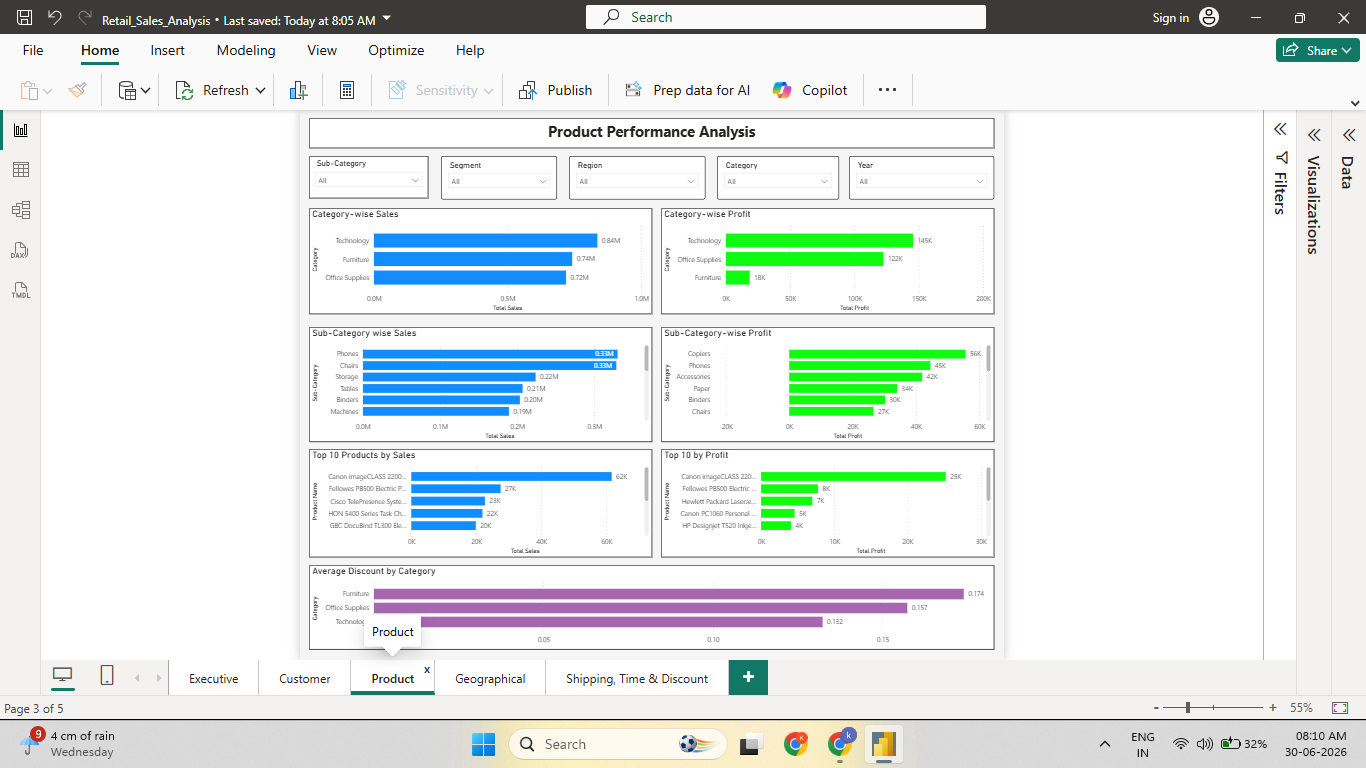

What the dashboard file says about the page in this screenshot:
{"tool":"powerbi","page":{"name":"Product ","canvas":[1280,1000],"ordinal":2},"visuals":[{"type":"textbox","box":[16.3,14.2,1245.9,54.9],"z":0},{"type":"clusteredBarChart","title":"Category-wise Sales","fields":{"Category":["orders.Category"],"Y":["Measures (2).Total Sales"]},"box":[16.3,178.9,624,193.1],"z":1000},{"type":"clusteredBarChart","title":"Category-wise Profit","fields":{"Category":["orders.Category"],"Y":["Measures (2).Total Profit"]},"box":[656.5,178.9,605.7,193.1],"z":2000},{"type":"clusteredBarChart","title":"Sub-Category wise Sales","fields":{"Category":["orders.Sub-Category"],"Y":["Measures (2).Total Sales"]},"box":[16.3,394.3,624,209.3],"z":3000},{"type":"clusteredBarChart","title":"Sub-Category-wise Profit","fields":{"Category":["orders.Sub-Category"],"Y":["Measures (2).Total Profit"]},"box":[656.5,394.3,605.7,209.3],"z":4000},{"type":"clusteredBarChart","title":"Top 10 Products by Sales","fields":{"Category":["orders.Product Name"],"Y":["Measures (2).Total Sales"]},"box":[16.3,615.9,624,197.2],"z":5000},{"type":"clusteredBarChart","title":"Top 10 by Profit","fields":{"Category":["orders.Product Name"],"Y":["Measures (2).Total Profit"]},"box":[656.5,615.9,605.7,197.2],"z":6000},{"type":"clusteredBarChart","fields":{"Category":["orders.Category"],"Y":["Measures (2).Average Discount"]},"box":[16.3,827.2,1245.9,154.5],"z":7000},{"type":"slicer","fields":{"Values":["orders.Sub-Category"]},"box":[16.3,83.3,217.5,77.2],"z":8000},{"type":"slicer","fields":{"Values":["orders.Segment"]},"box":[256.1,83.3,211.4,79.3],"z":9000},{"type":"slicer","fields":{"Values":["orders.Region"]},"box":[489.8,83.3,248,79.3],"z":10000},{"type":"slicer","fields":{"Values":["orders.Category"]},"box":[758.1,83.3,221.5,79.3],"z":11000},{"type":"slicer","fields":{"Values":["orders.Order Date.Variation.Date Hierarchy.Year"]},"box":[998,83.3,264.2,79.3],"z":12000}]}

Visuals, with their boxes on the page's 1280x1000 design canvas (x1, y1, x2, y2). These are canvas units, not pixel positions in the 1366x768 screenshot, which may show the page scaled, cropped or inside an application window:
textbox: detection(16, 14, 1262, 69)
"Category-wise Sales" clusteredBarChart: detection(16, 179, 640, 372)
"Category-wise Profit" clusteredBarChart: detection(656, 179, 1262, 372)
"Sub-Category wise Sales" clusteredBarChart: detection(16, 394, 640, 604)
"Sub-Category-wise Profit" clusteredBarChart: detection(656, 394, 1262, 604)
"Top 10 Products by Sales" clusteredBarChart: detection(16, 616, 640, 813)
"Top 10 by Profit" clusteredBarChart: detection(656, 616, 1262, 813)
clusteredBarChart - orders.Category x Measures (2).Average Discount: detection(16, 827, 1262, 982)
slicer - orders.Sub-Category: detection(16, 83, 234, 160)
slicer - orders.Segment: detection(256, 83, 468, 163)
slicer - orders.Region: detection(490, 83, 738, 163)
slicer - orders.Category: detection(758, 83, 980, 163)
slicer - orders.Order Date.Variation.Date Hierarchy.Year: detection(998, 83, 1262, 163)
